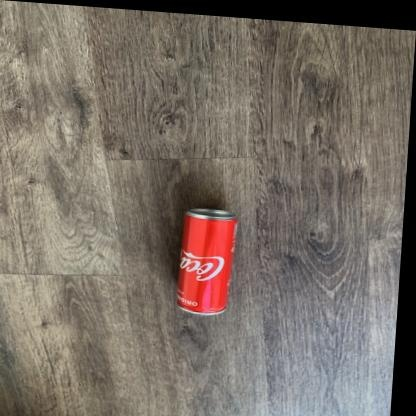trash: (176, 209, 236, 314)
